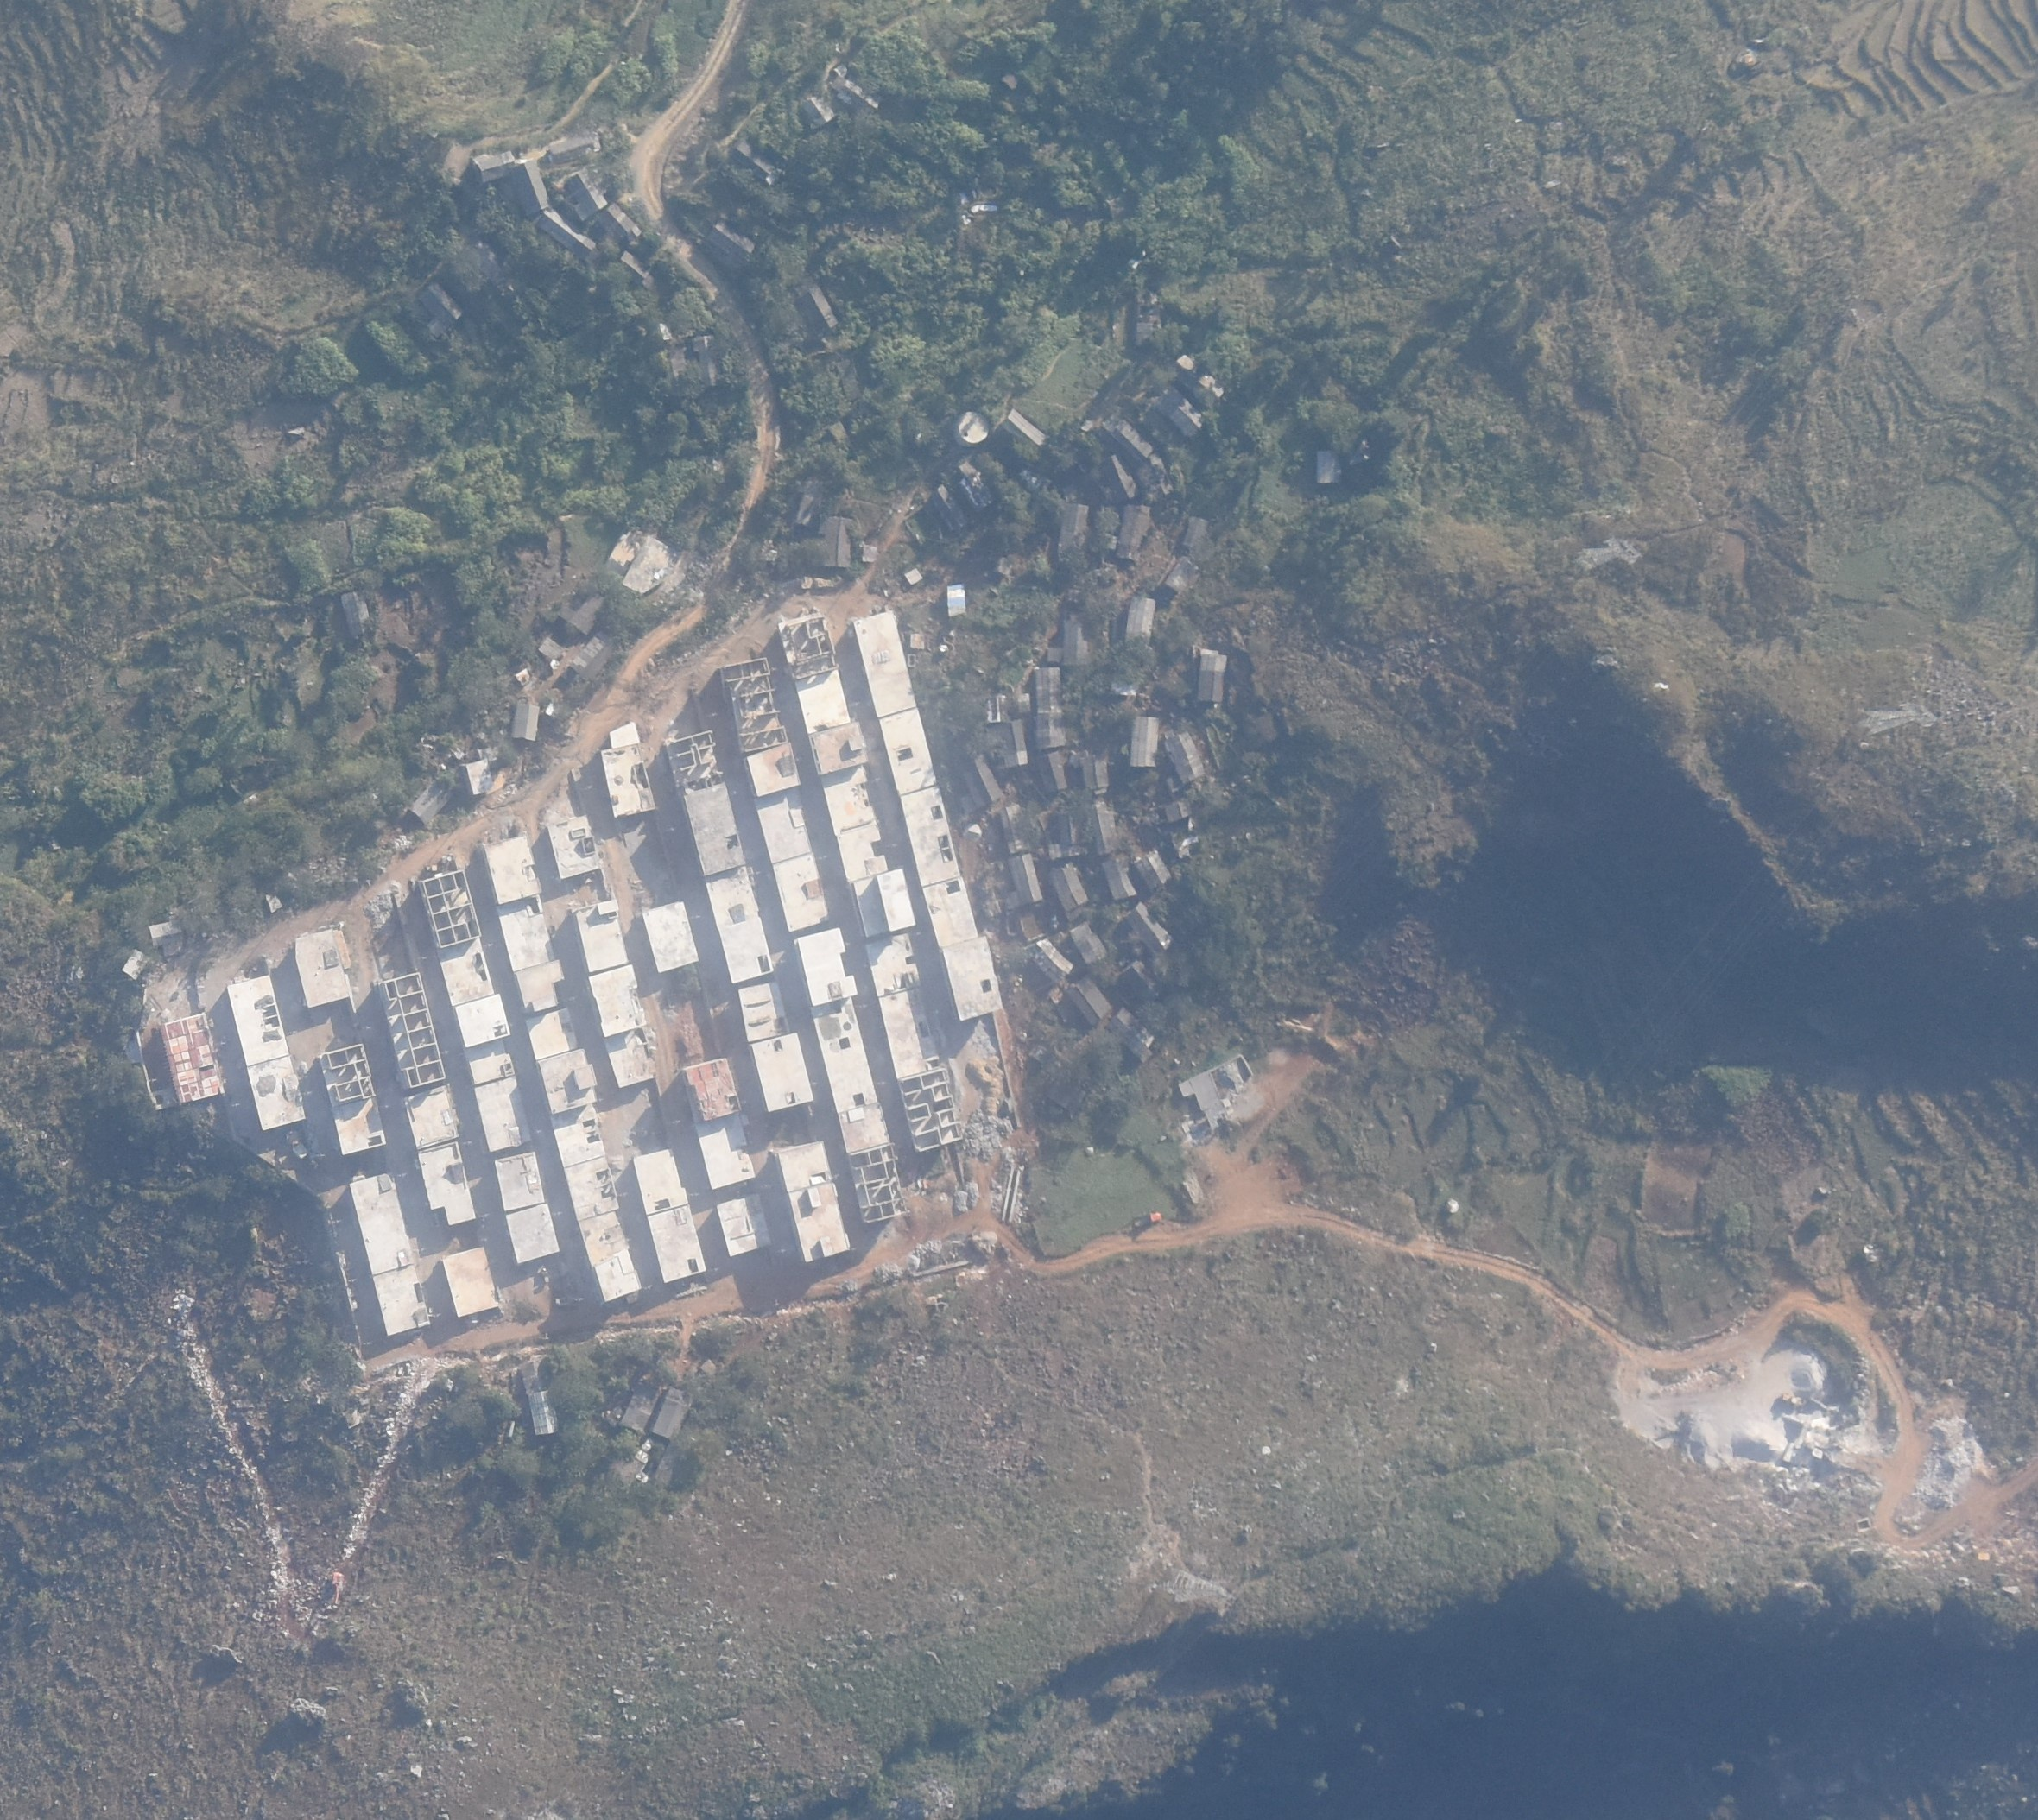building: (668, 729, 745, 873), (682, 1059, 757, 1191), (808, 1000, 882, 1112), (376, 971, 444, 1087), (703, 868, 773, 980), (320, 1042, 387, 1158), (717, 657, 789, 752), (854, 611, 915, 715), (351, 1175, 415, 1275), (901, 784, 961, 887), (1177, 1052, 1256, 1130), (578, 1209, 643, 1302), (225, 973, 288, 1068), (450, 991, 513, 1086), (162, 1012, 223, 1105), (485, 898, 560, 973), (877, 706, 940, 796), (789, 928, 859, 1007), (416, 868, 485, 949), (478, 833, 550, 908), (880, 989, 942, 1075), (900, 1070, 963, 1151), (770, 852, 831, 933), (752, 1031, 813, 1110), (789, 1186, 850, 1263), (849, 1142, 907, 1223), (945, 936, 1003, 1015), (534, 1047, 604, 1112), (1019, 666, 1075, 747), (246, 1056, 306, 1131), (819, 764, 884, 833), (418, 1145, 474, 1224), (587, 964, 647, 1038), (919, 875, 979, 949), (295, 929, 351, 1007), (473, 1077, 531, 1151), (754, 792, 813, 863), (648, 1207, 706, 1279), (372, 1265, 432, 1333), (643, 901, 699, 973), (560, 1156, 624, 1219), (777, 617, 842, 678), (432, 942, 494, 1007), (854, 871, 914, 936), (632, 1147, 689, 1216), (444, 1247, 499, 1318), (863, 935, 922, 998), (576, 899, 625, 975), (601, 745, 654, 815), (794, 673, 856, 733), (715, 1195, 773, 1256), (404, 1086, 459, 1151), (548, 813, 601, 880), (611, 532, 669, 592), (504, 1202, 560, 1263), (743, 740, 801, 798), (836, 822, 893, 882), (532, 206, 596, 258), (806, 722, 871, 773), (729, 984, 787, 1040), (550, 1109, 604, 1166), (520, 1353, 557, 1435), (524, 1010, 582, 1061), (958, 754, 1005, 815), (495, 1152, 546, 1209), (617, 1376, 666, 1434), (777, 1138, 829, 1191), (836, 1103, 893, 1152), (604, 1033, 652, 1089), (1049, 613, 1098, 666), (567, 631, 618, 680), (1156, 385, 1205, 436), (560, 170, 608, 221), (513, 961, 564, 1008), (650, 1384, 694, 1439), (1174, 353, 1225, 399), (827, 65, 880, 109), (411, 776, 459, 824), (1056, 501, 1091, 564), (1161, 731, 1203, 784), (559, 596, 613, 636), (509, 158, 548, 214), (416, 281, 462, 329), (596, 202, 645, 246), (706, 218, 757, 260), (736, 141, 787, 181), (928, 485, 968, 536), (1030, 936, 1073, 982), (1000, 409, 1047, 451), (1135, 283, 1167, 346), (958, 459, 996, 509), (819, 515, 856, 567), (798, 286, 838, 334), (1008, 856, 1044, 910), (1049, 864, 1088, 914), (1073, 973, 1112, 1022), (1121, 501, 1151, 564), (1123, 596, 1156, 652), (1103, 451, 1142, 499), (1070, 919, 1109, 966), (996, 803, 1031, 854), (1110, 418, 1154, 459), (1116, 1007, 1154, 1052), (1130, 715, 1163, 768), (1086, 799, 1117, 854), (958, 186, 998, 228), (1137, 453, 1174, 499), (1033, 750, 1070, 796), (1135, 901, 1172, 947), (1133, 850, 1172, 889), (1200, 652, 1228, 704), (1103, 856, 1137, 899), (694, 334, 720, 388), (343, 590, 371, 641), (796, 93, 836, 128), (1003, 720, 1033, 768), (1019, 908, 1061, 942), (1165, 557, 1200, 596), (548, 132, 599, 158), (474, 151, 517, 183), (1131, 959, 1165, 998), (148, 919, 186, 949), (1079, 757, 1109, 796), (464, 759, 494, 796), (511, 703, 539, 740), (618, 251, 655, 279), (1184, 515, 1209, 553), (608, 719, 640, 748), (1314, 450, 1341, 485), (123, 947, 149, 979), (947, 583, 968, 617), (1110, 669, 1137, 696), (986, 696, 1010, 724), (538, 636, 564, 659), (1165, 799, 1193, 820), (798, 494, 815, 527), (264, 889, 283, 912), (761, 539, 778, 562), (903, 567, 924, 585), (661, 318, 676, 341), (513, 668, 531, 685), (863, 545, 877, 562), (910, 632, 924, 648)
cable-tower: (1168, 1567, 1235, 1609), (1864, 701, 1940, 736), (1578, 534, 1646, 569)
quarry: (1623, 1340, 1857, 1472)
well: (958, 411, 989, 441), (1446, 1198, 1460, 1214)
